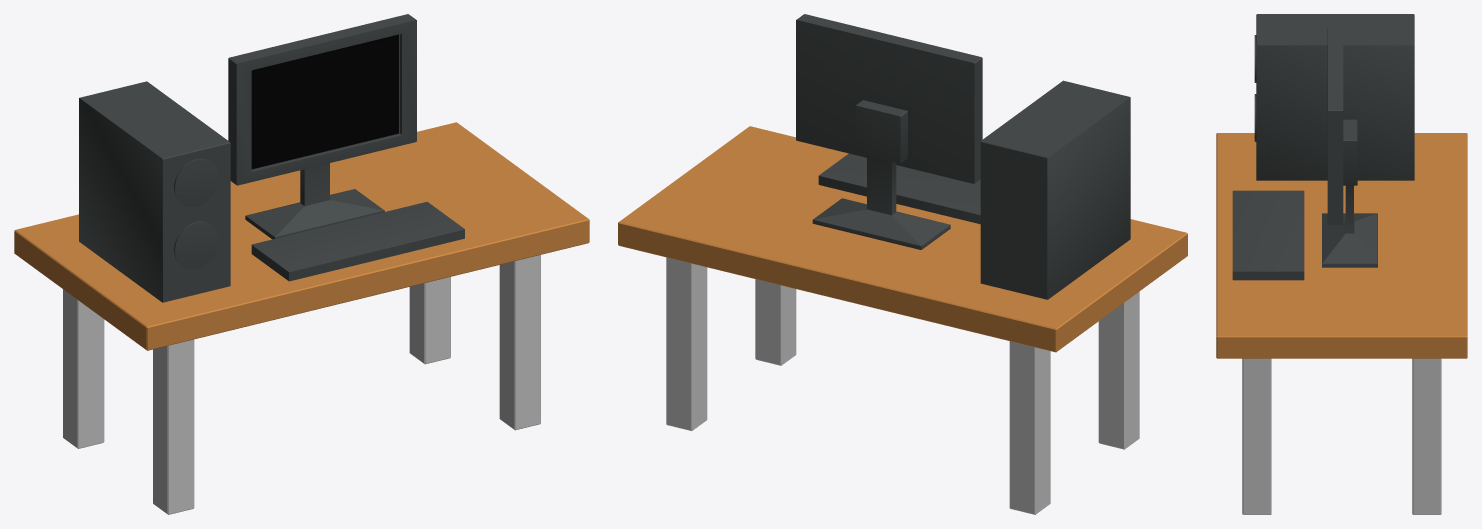
File: DeskWithPC.fbx
The picture shows the model from 3 angles, left to right: view 1: azimuth 30°, elevation 25°; view 2: azimuth 150°, elevation 25°; view 3: azimuth 270°, elevation 25°; orthographic projection. The views are drawn at different scales.
Visible parts, largest first — view 1: DeskWithPC; view 2: DeskWithPC; view 3: DeskWithPC.
Boxes of the visible parts, box(x1,y1,x2,y2) form: DeskWithPC: box(14, 14, 589, 514); DeskWithPC: box(618, 14, 1187, 514); DeskWithPC: box(1216, 14, 1467, 514).
Bounding box in the file's own units: 312 × 263 × 163.
